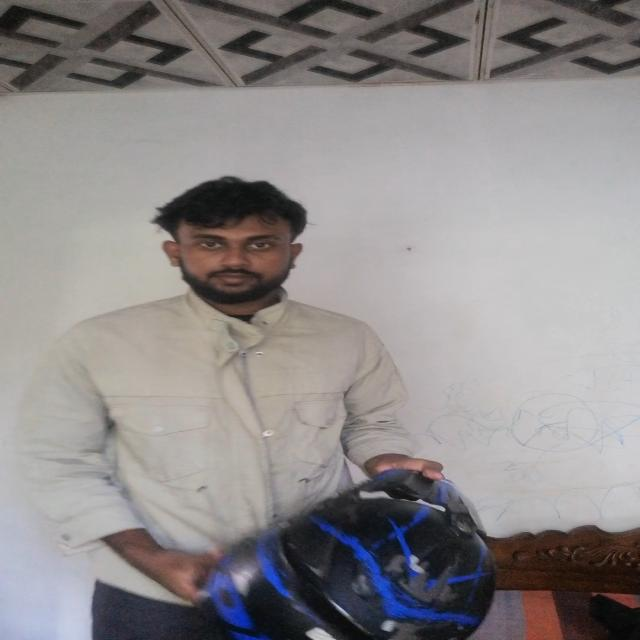Jacket_Wearer: (49, 294, 468, 588)
Person: (37, 166, 478, 640)
